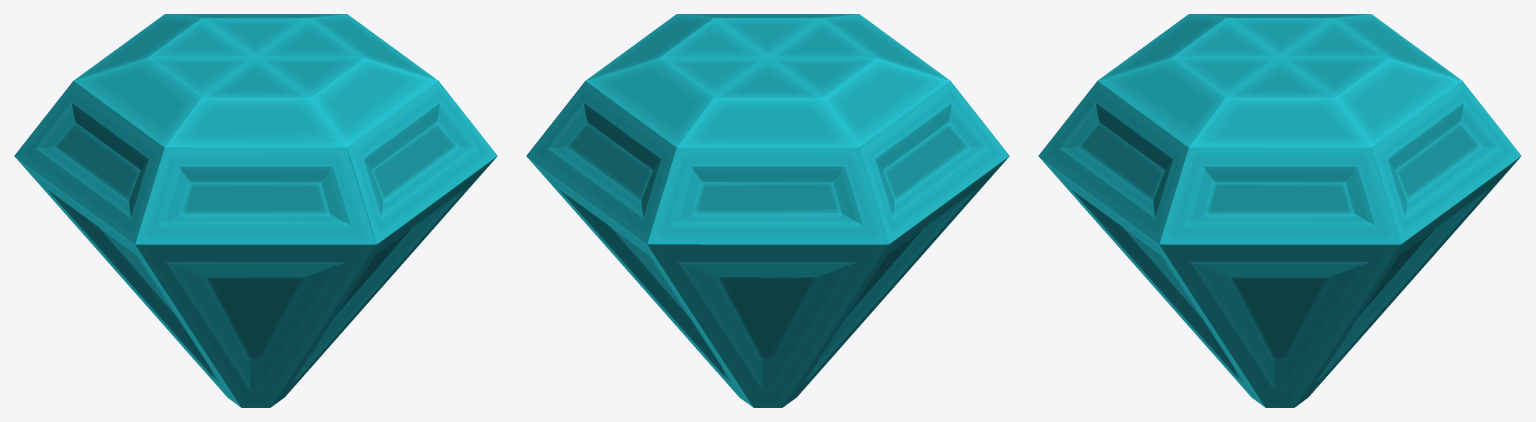
The model's file is Diamond.fbx.
3 renders of one model, left to right at view 1: azimuth 30°, elevation 25°; view 2: azimuth 150°, elevation 25°; view 3: azimuth 270°, elevation 25°, orthographic.
Parts seen in each view (by area): view 1: Diamond; view 2: Diamond; view 3: Diamond.
Boxes of the visible parts, x1,y1,x2,y2 form: Diamond: (14,14,497,407); Diamond: (526,14,1009,407); Diamond: (1038,14,1521,407).
Size of the model in its own units: 5.79 by 5.18 by 6.68.
Materials: 1 (1 with a texture image).
